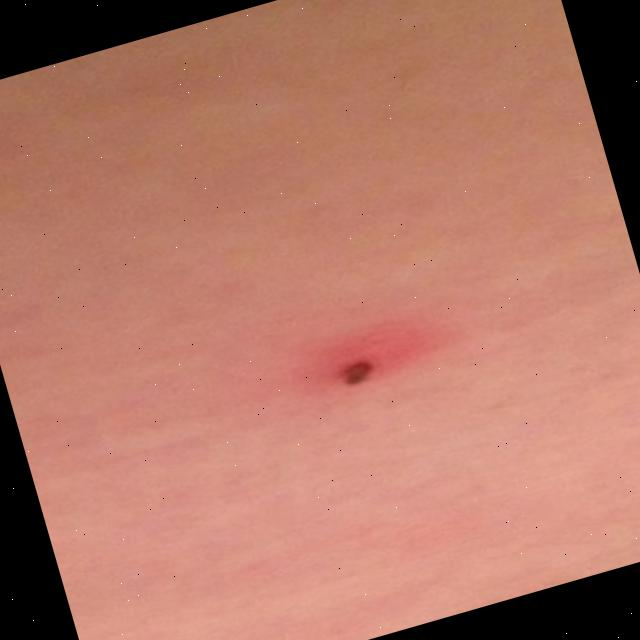kene: (314, 337, 406, 406)
